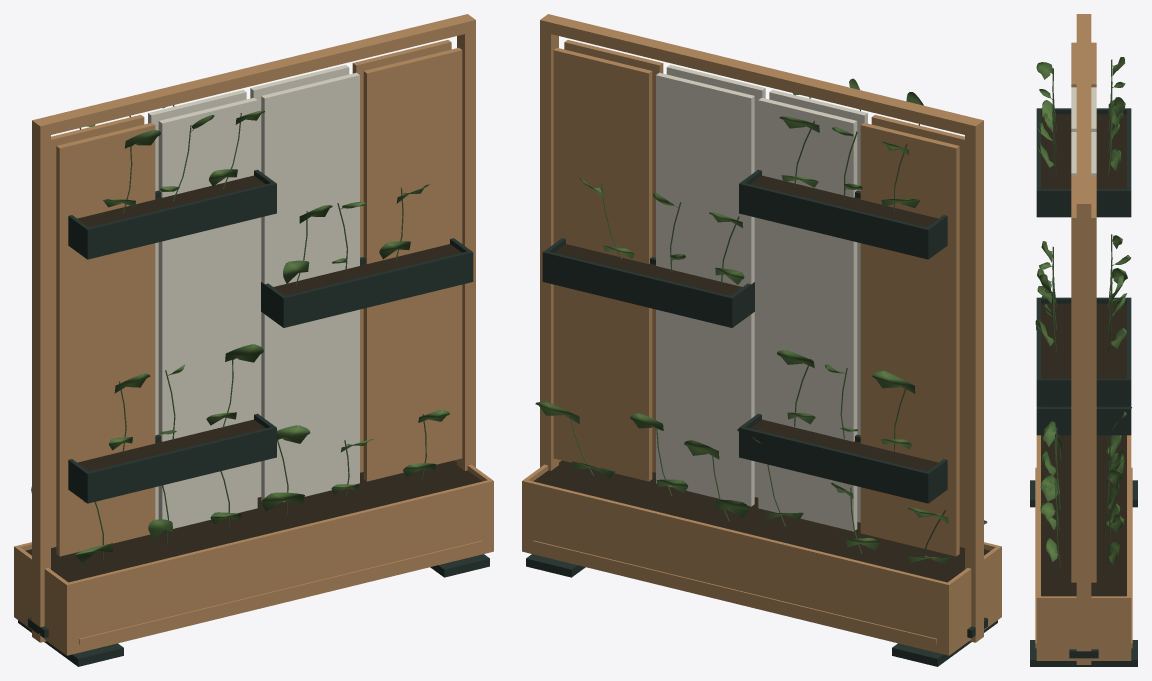
File: botanicalDivider-6.glb
The picture shows the model from 3 angles, left to right: view 1: azimuth 30°, elevation 25°; view 2: azimuth 150°, elevation 25°; view 3: azimuth 270°, elevation 25°; orthographic projection. The views are drawn at different scales.
Visible parts, largest first — view 1: Botanical_frame_finish, Botanical_ceramic, Botanical_powdercoat, Botanical_recessed_soil, Botanical_living_foliage, Botanical_connected_stems; view 2: Botanical_frame_finish, Botanical_ceramic, Botanical_powdercoat, Botanical_recessed_soil, Botanical_living_foliage, Botanical_connected_stems; view 3: Botanical_frame_finish, Botanical_recessed_soil, Botanical_powdercoat, Botanical_living_foliage, Botanical_connected_stems, Botanical_ceramic.
Part boxes in pixels (x1,y1,x2,y2): Botanical_frame_finish: (14, 14, 493, 655); Botanical_ceramic: (148, 65, 359, 528); Botanical_powdercoat: (18, 169, 489, 666); Botanical_recessed_soil: (25, 175, 482, 582); Botanical_living_foliage: (31, 107, 449, 562); Botanical_connected_stems: (79, 105, 426, 559); Botanical_frame_finish: (522, 14, 1001, 655); Botanical_ceramic: (656, 65, 867, 531); Botanical_powdercoat: (526, 169, 997, 666); Botanical_recessed_soil: (533, 175, 990, 582); Botanical_living_foliage: (535, 78, 987, 564); Botanical_connected_stems: (568, 97, 945, 563); Botanical_frame_finish: (1035, 14, 1132, 664); Botanical_recessed_soil: (1041, 114, 1126, 596); Botanical_powdercoat: (1030, 108, 1137, 666); Botanical_living_foliage: (1035, 57, 1131, 566); Botanical_connected_stems: (1050, 59, 1113, 566); Botanical_ceramic: (1071, 87, 1096, 176).
Bounding box in the file's own units: 2 × 2.3 × 0.48.
